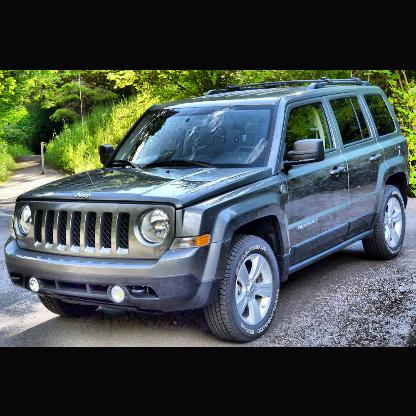Jeep Patriot SUV 2012: (6, 76, 412, 343)
